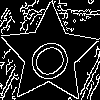O: (24, 29, 82, 88)
